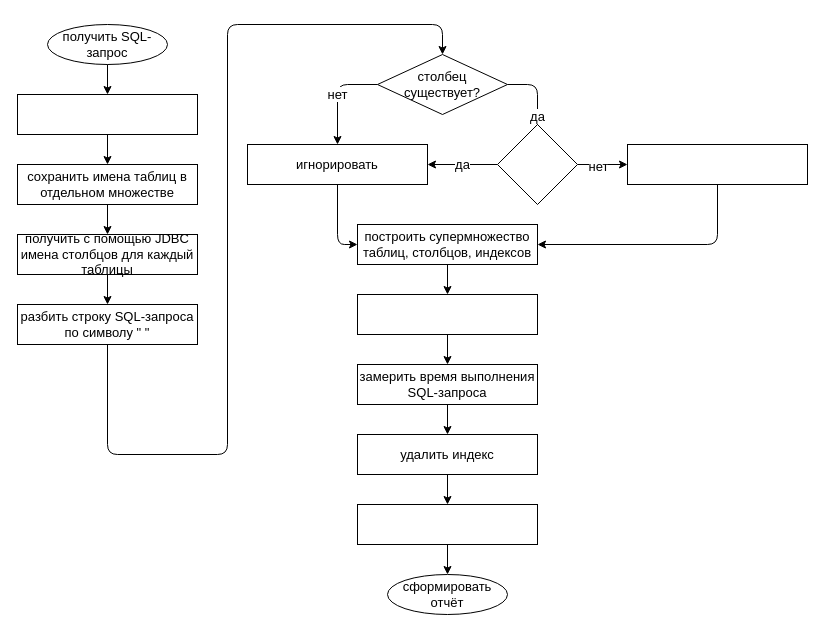
This 825x632 diagram has some shape labels left out. The box of each missing label's shape, as (x1, y1, x2, y2) in pixels:
выбрать лучший индекс: (356, 504, 538, 544)
извлечь имена таблиц с помощью JSqlParser: (16, 94, 198, 134)
создать индекс: (356, 294, 538, 334)
сохранить: (626, 144, 808, 184)
это ключ (PK, FK)?: (496, 124, 578, 204)
